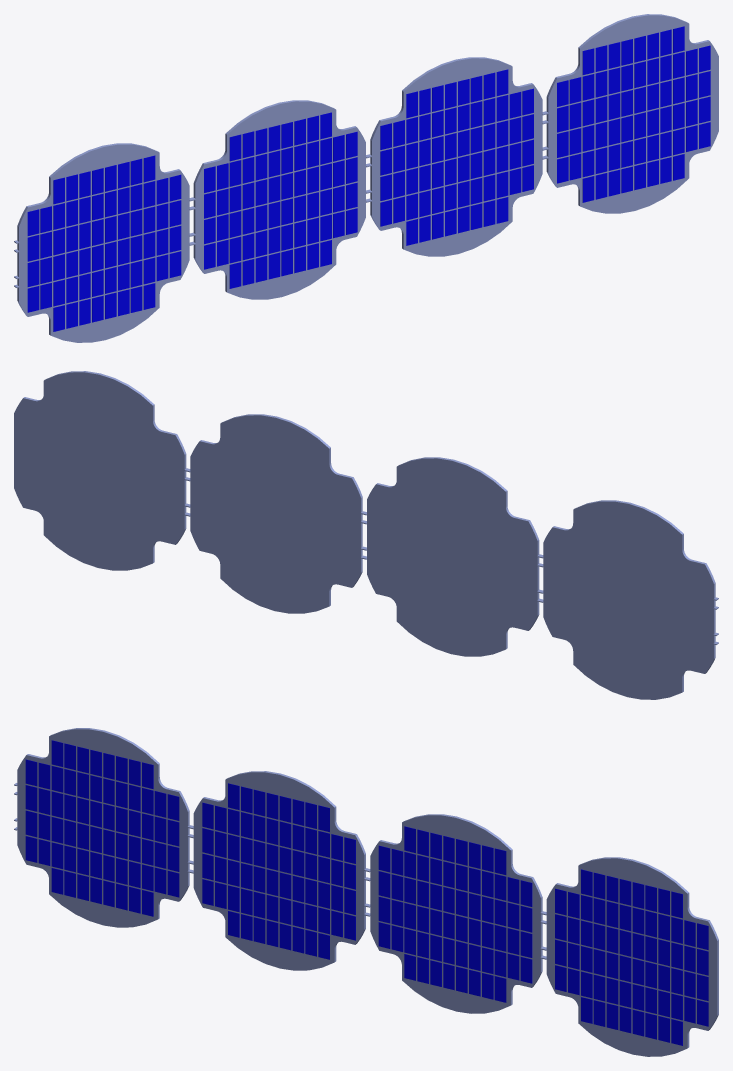
Rendered from solar_panels.obj.
The picture shows the model from 3 angles, top to bottom: view 1: azimuth 30°, elevation 25°; view 2: azimuth 150°, elevation 25°; view 3: azimuth 330°, elevation 25°; orthographic projection.
Parts seen in each view (by area): view 1: Solar_Panel_PickNik002; view 2: Solar_Panel_PickNik002; view 3: Solar_Panel_PickNik002.
Boxes of the visible parts, <box> form: Solar_Panel_PickNik002: <box>14,14,718,342</box>; Solar_Panel_PickNik002: <box>14,371,718,699</box>; Solar_Panel_PickNik002: <box>14,728,718,1056</box>.
Size of the model in its own units: 6.22 by 1.64 by 0.038.
